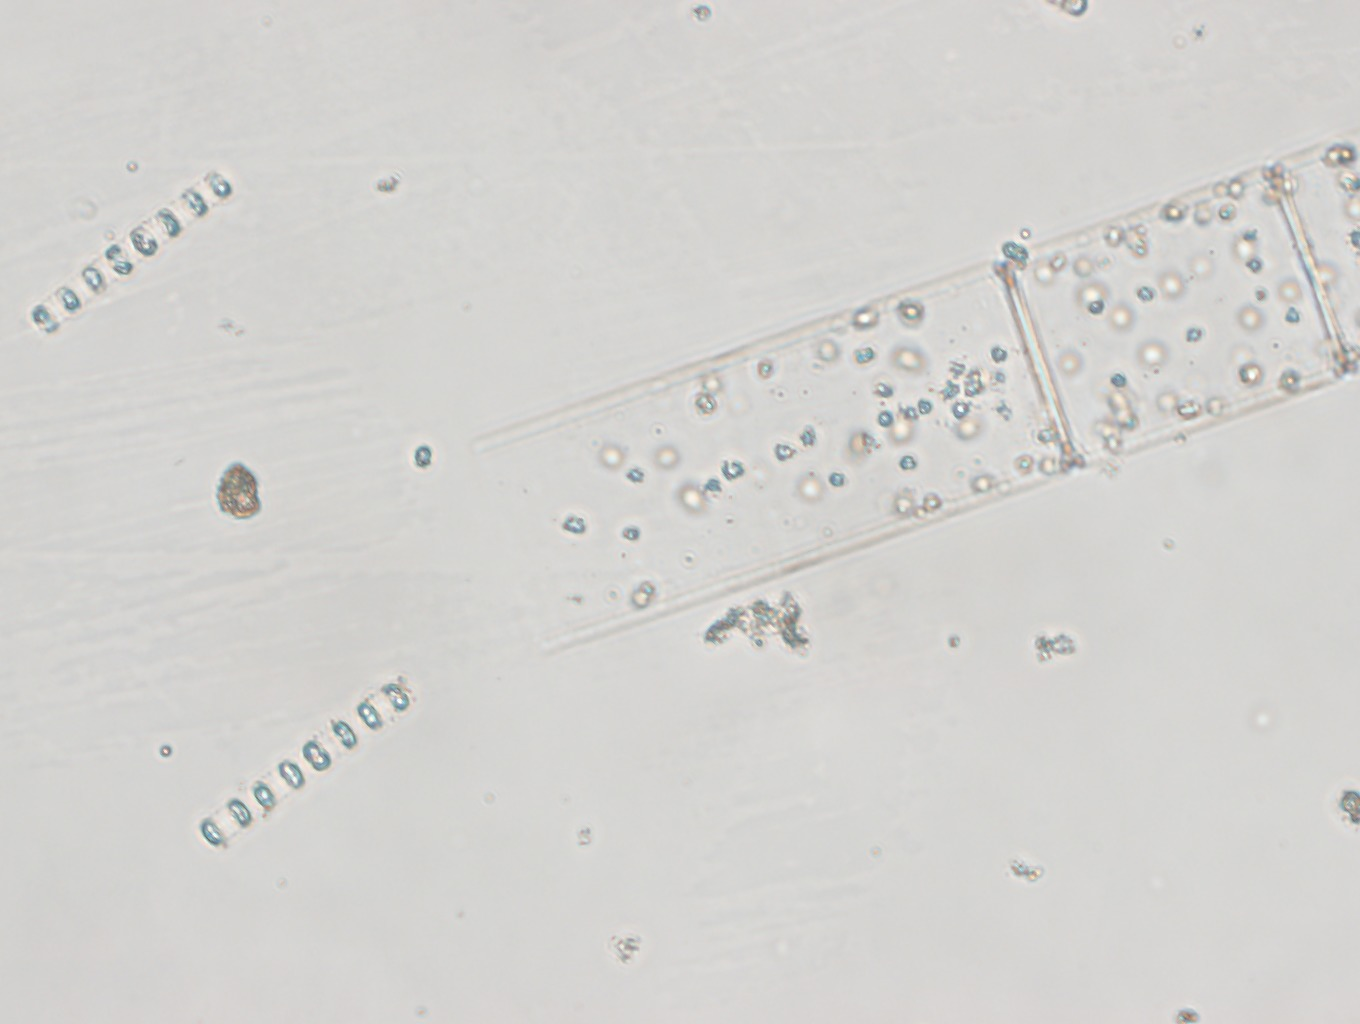guinardia flaccida: (471, 126, 1360, 662)
skeletonema: (6, 165, 250, 337), (194, 683, 418, 850)
